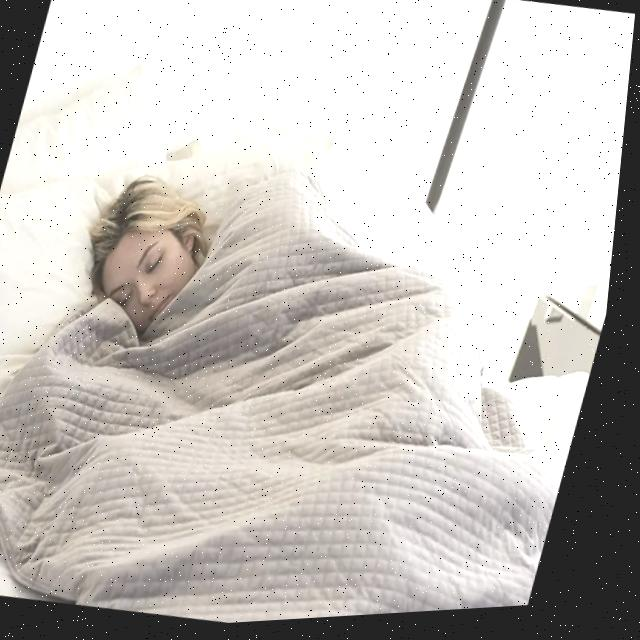sleeping-person: (0, 115, 629, 639)
